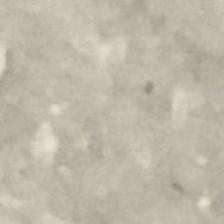Non_Crack: (7, 19, 224, 202)
